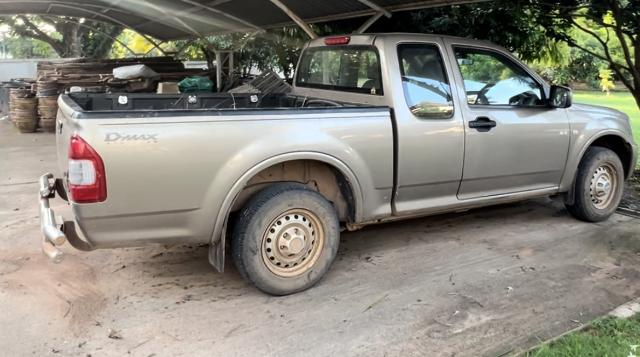pickup-truck: (39, 28, 637, 295)
